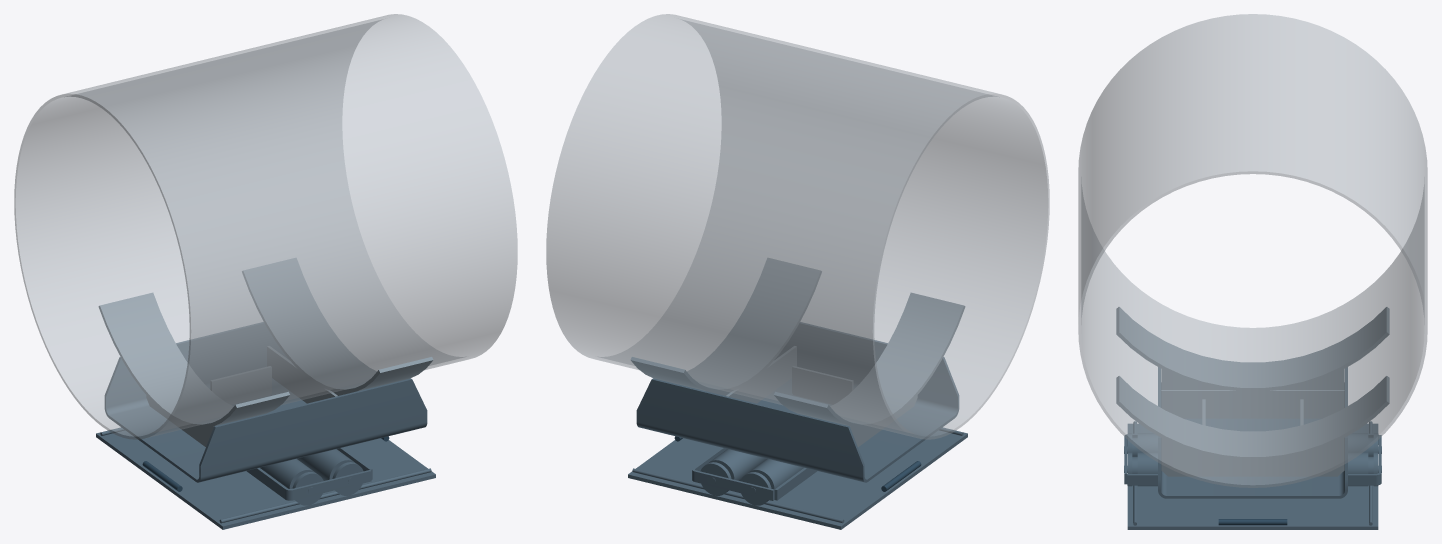
The model's file is TS-630.00.000-05-opora-dn920-hod800.glb.
3 views of the same model, side by side, from view 1: azimuth 30°, elevation 25°; view 2: azimuth 150°, elevation 25°; view 3: azimuth 270°, elevation 25° (orthographic).
Parts seen in each view (by area): view 1: truba, o624_skoba_9, o624_podushka_14, o624_podushka_15, plita_osnovanie_0, rebro630_16, o624_rebro4_13, obojma_ugolnik_7, obojma_katok_5, obojma_katok_6, plita_napravlyayushchaya_3; view 2: truba, o624_skoba_9, o624_podushka_14, o624_podushka_15, plita_osnovanie_0, rebro630_17, o624_rebro4_13, obojma_katok_5, obojma_katok_6, obojma_ugolnik_8, plita_napravlyayushchaya_1; view 3: truba, plita_osnovanie_0, o624_podushka_15, o624_podushka_14, o624_skoba_9, o624_rebro4_12, o624_rebro3_11, obojma_katok_5, obojma_katok_6, o624_rebro3_10, obojma_ugolnik_8, plita_upor_2.
Part boxes in pixels (left/top/right/bottom): truba: left=14, top=14, right=517, bottom=439; o624_skoba_9: left=104, top=322, right=427, bottom=482; o624_podushka_14: left=98, top=292, right=289, bottom=428; o624_podushka_15: left=242, top=258, right=433, bottom=393; plita_osnovanie_0: left=96, top=430, right=435, bottom=529; rebro630_16: left=210, top=366, right=271, bottom=404; o624_rebro4_13: left=267, top=346, right=337, bottom=403; obojma_ugolnik_7: left=246, top=468, right=371, bottom=500; obojma_katok_5: left=297, top=449, right=363, bottom=495; obojma_katok_6: left=260, top=458, right=323, bottom=505; plita_napravlyayushchaya_3: left=219, top=468, right=431, bottom=523; truba: left=546, top=14, right=1049, bottom=439; o624_skoba_9: left=636, top=322, right=959, bottom=482; o624_podushka_14: left=774, top=292, right=965, bottom=428; o624_podushka_15: left=630, top=258, right=821, bottom=393; plita_osnovanie_0: left=628, top=430, right=967, bottom=529; rebro630_17: left=792, top=366, right=853, bottom=404; o624_rebro4_13: left=726, top=346, right=796, bottom=403; obojma_katok_5: left=700, top=449, right=766, bottom=495; obojma_katok_6: left=740, top=458, right=803, bottom=505; obojma_ugolnik_8: left=692, top=447, right=774, bottom=500; plita_napravlyayushchaya_1: left=632, top=468, right=844, bottom=523; truba: left=1078, top=14, right=1427, bottom=487; plita_osnovanie_0: left=1127, top=423, right=1378, bottom=529; o624_podushka_15: left=1116, top=376, right=1389, bottom=460; o624_podushka_14: left=1116, top=307, right=1389, bottom=391; o624_skoba_9: left=1158, top=367, right=1347, bottom=498; o624_rebro4_12: left=1161, top=390, right=1344, bottom=418; o624_rebro3_11: left=1161, top=438, right=1344, bottom=476; obojma_katok_5: left=1124, top=452, right=1381, bottom=486; obojma_katok_6: left=1124, top=433, right=1381, bottom=456; o624_rebro3_10: left=1161, top=369, right=1344, bottom=389; obojma_ugolnik_8: left=1127, top=435, right=1381, bottom=485; plita_upor_2: left=1218, top=519, right=1287, bottom=525.
Bounding box in the file's own units: 980 × 1121 × 920.
